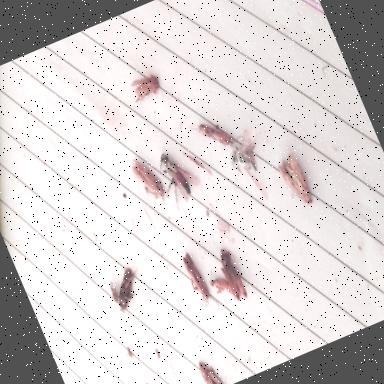pbw: (178, 248, 220, 316), (188, 108, 244, 158), (127, 152, 169, 212), (104, 262, 150, 313), (275, 152, 315, 210), (216, 249, 248, 302), (127, 71, 163, 102), (206, 266, 233, 300), (195, 355, 225, 384)
